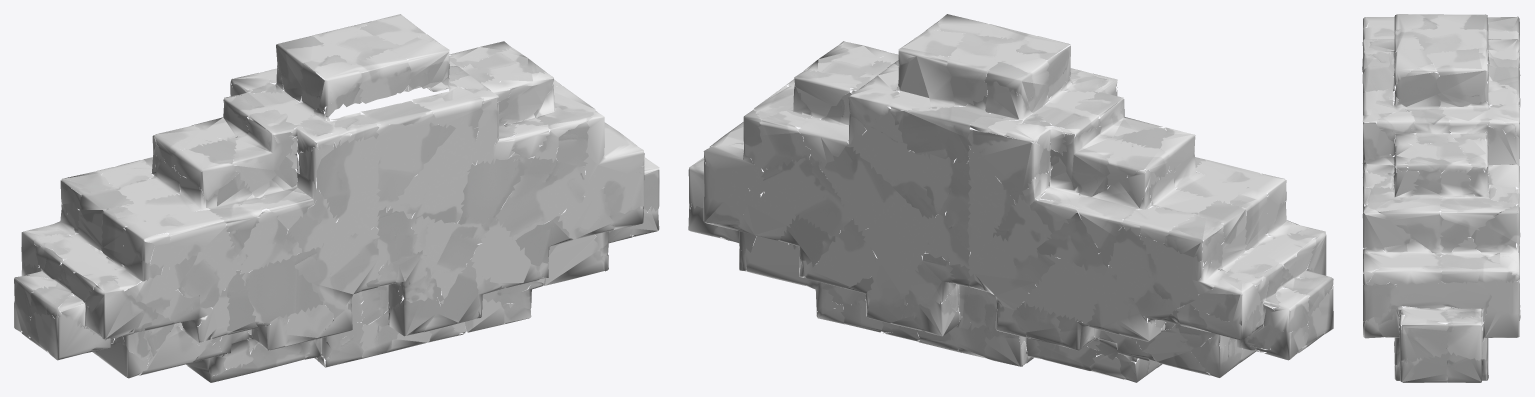
The model's file is nube3.glb.
The picture shows the model from 3 angles, left to right: view 1: azimuth 30°, elevation 25°; view 2: azimuth 150°, elevation 25°; view 3: azimuth 270°, elevation 25°; orthographic projection. The views are drawn at different scales.
Visible parts, largest first — view 1: Mesh_0.012; view 2: Mesh_0.012; view 3: Mesh_0.012.
Boxes of the visible parts, bbox=[...] form: Mesh_0.012: bbox=[14, 14, 659, 382]; Mesh_0.012: bbox=[688, 14, 1333, 382]; Mesh_0.012: bbox=[1362, 14, 1520, 382].
Size of the model in its own units: 190 by 87.09 by 46.76.
Materials: 1 (1 with a texture image).
